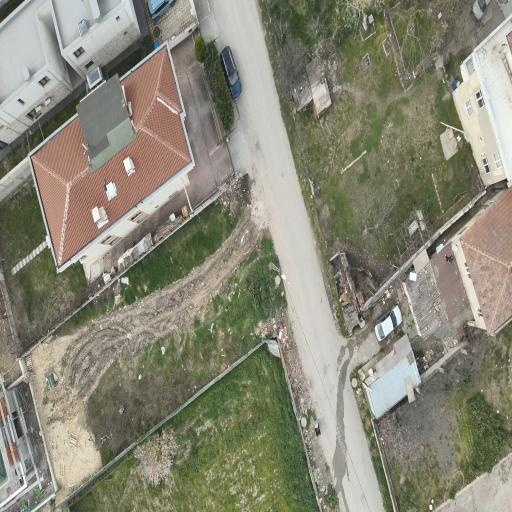car: (221, 46, 242, 99), (375, 306, 402, 341), (148, 0, 175, 20), (472, 0, 490, 20)
